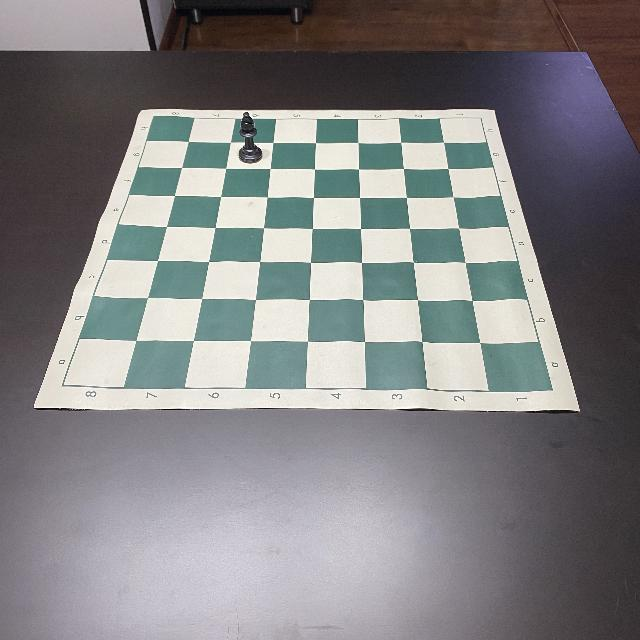black-bishop: (238, 111, 262, 163)
board: (36, 110, 584, 414)
